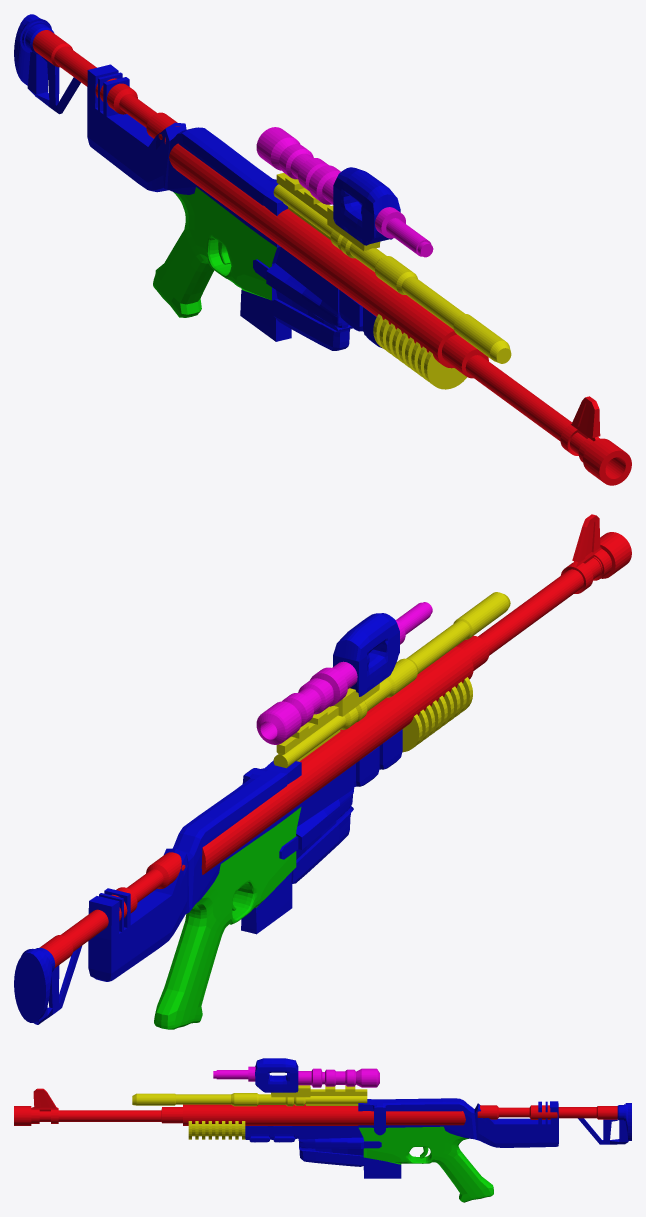
3 renders of one model, top to bottom at view 1: azimuth 30°, elevation 25°; view 2: azimuth 150°, elevation 25°; view 3: azimuth 270°, elevation 25°, orthographic. The views are drawn at different scales.
Parts seen in each view (by area): view 1: Plane; view 2: Plane; view 3: Plane.
Part boxes in pixels (x1,y1,x2,y2): Plane: (14, 14, 631, 485); Plane: (14, 514, 631, 1029); Plane: (14, 1058, 631, 1202).
Size of the model in its own units: 45.56 by 251 by 992.
